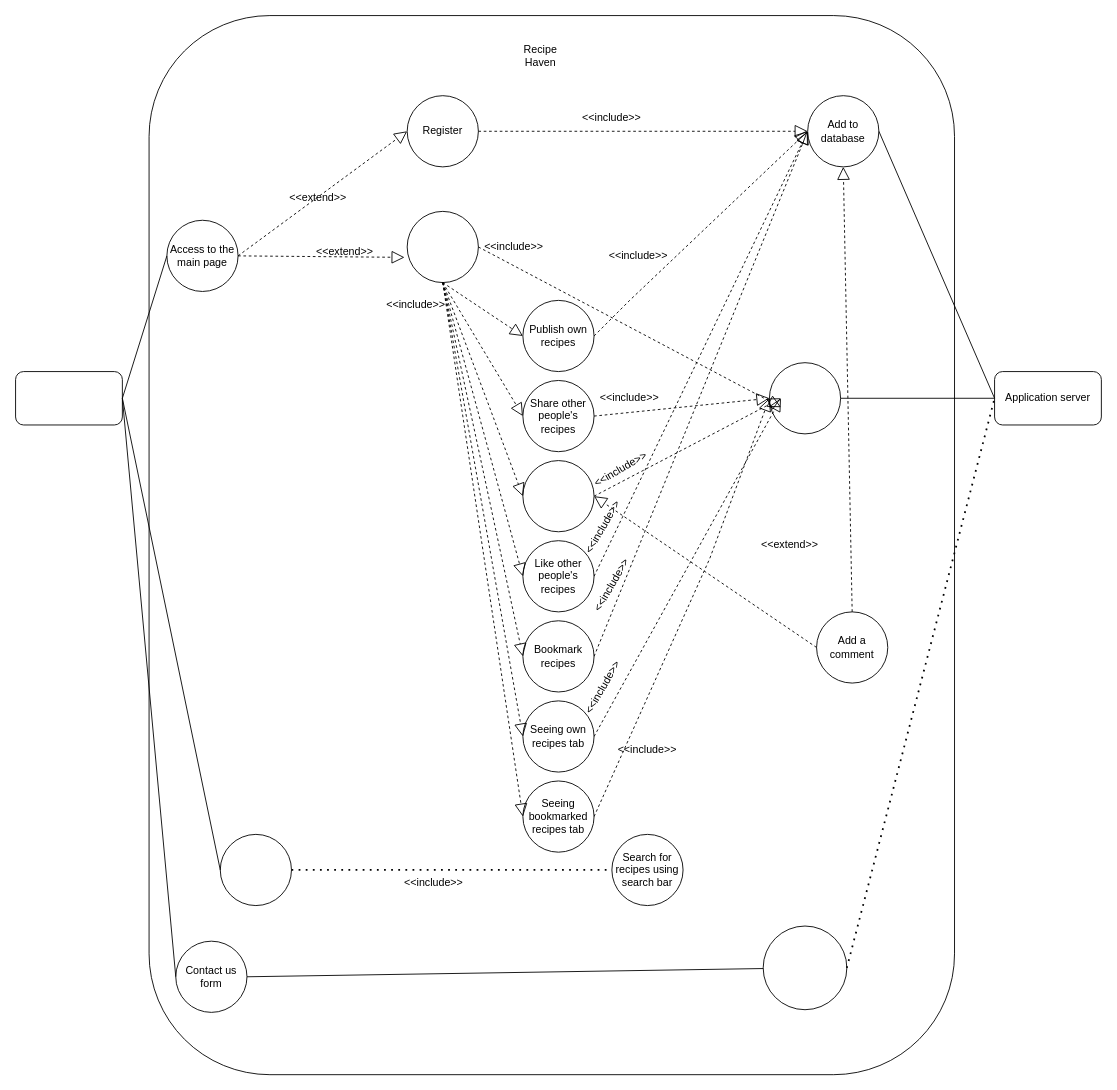
Image size: 1117x1090. Some labels were removed from this diagram. The centre of each missing label's shape, as x and y in pixels:
"Customer" goes at point 68,398.
"Log In" goes at point 442,246.
"Search within database" goes at point 805,398.
"See some recipes" goes at point 255,869.
"Sending an e-mail via provided services" goes at point 804,967.
"View comments section" goes at point 558,496.
